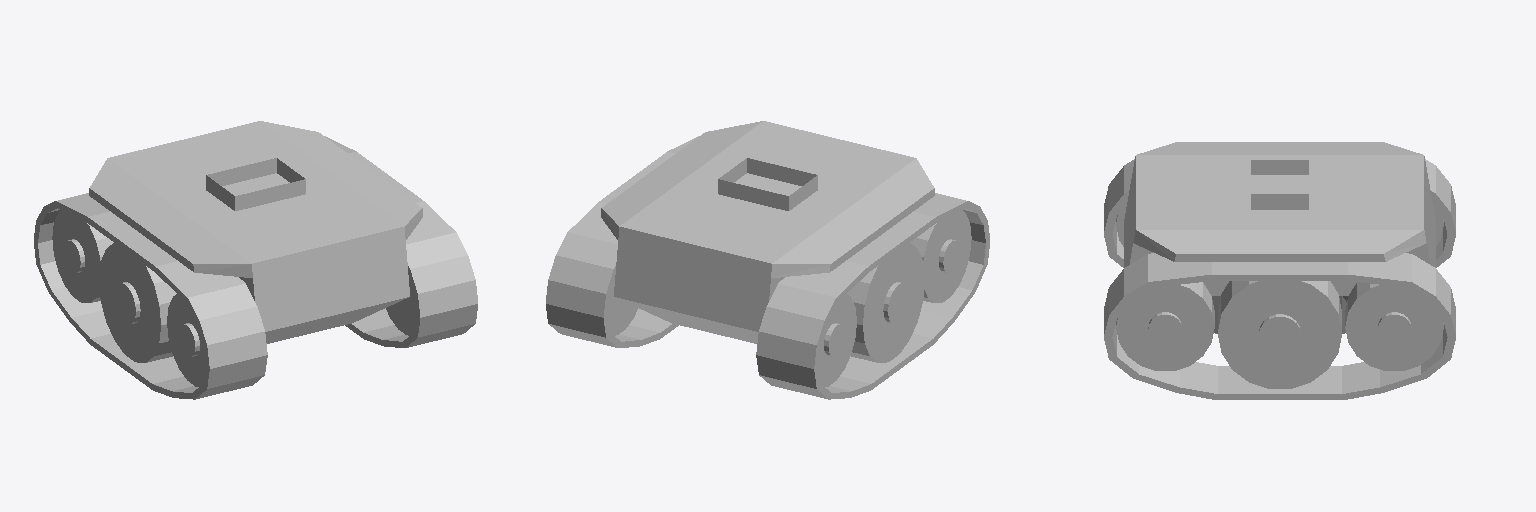
File: enemy_chassis.obj
3 renders of one model, left to right at view 1: azimuth 30°, elevation 25°; view 2: azimuth 150°, elevation 25°; view 3: azimuth 270°, elevation 25°, orthographic.
Visible parts, largest first — view 1: Tank_Body_Cylinder.002; view 2: Tank_Body_Cylinder.002; view 3: Tank_Body_Cylinder.002.
Part boxes in pixels (x1,y1,x2,y2): Tank_Body_Cylinder.002: (34,121,477,399); Tank_Body_Cylinder.002: (546,121,989,399); Tank_Body_Cylinder.002: (1104,142,1455,399).
Bounding box in the file's own units: 3.52 × 1.98 × 4.